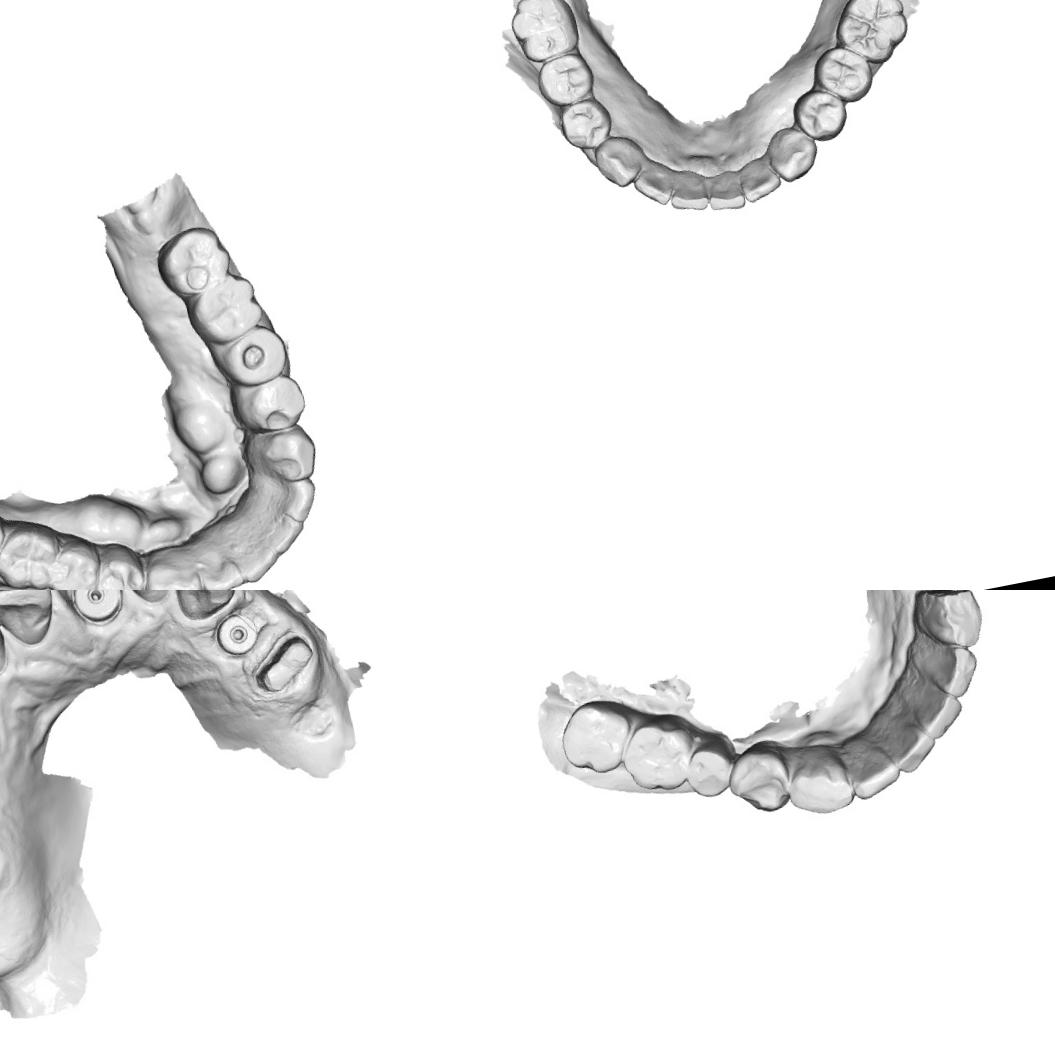canine: (778, 737, 858, 821), (907, 590, 988, 656), (250, 420, 322, 484), (760, 120, 822, 185), (590, 130, 649, 192), (134, 546, 209, 590), (169, 590, 239, 624)
crown: (242, 626, 324, 700)
implant: (214, 610, 262, 660), (67, 590, 128, 629)
incisor: (920, 636, 984, 704), (844, 735, 906, 802), (0, 590, 61, 654), (908, 679, 967, 745), (880, 716, 942, 778), (269, 471, 322, 527), (258, 507, 310, 560), (628, 156, 677, 210), (193, 544, 247, 590), (664, 165, 713, 215), (736, 154, 784, 204), (234, 537, 282, 586), (702, 167, 747, 215), (114, 590, 187, 607)
molar: (550, 690, 639, 784), (616, 714, 700, 800), (150, 219, 236, 302), (184, 270, 268, 350), (825, 0, 916, 73), (503, 0, 584, 66), (0, 521, 62, 590)
premolar: (720, 736, 797, 821), (211, 319, 295, 392), (229, 370, 310, 440), (808, 38, 876, 109), (787, 82, 851, 146), (531, 48, 597, 109), (681, 737, 740, 802), (556, 94, 616, 154), (41, 535, 106, 590), (88, 542, 149, 590)
